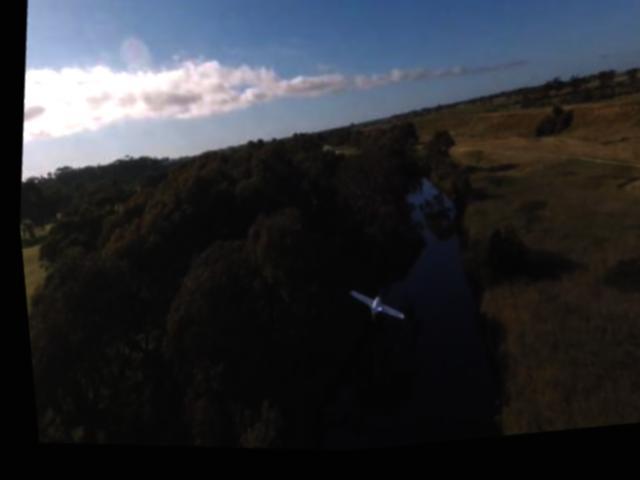uav: (337, 284, 402, 333)
